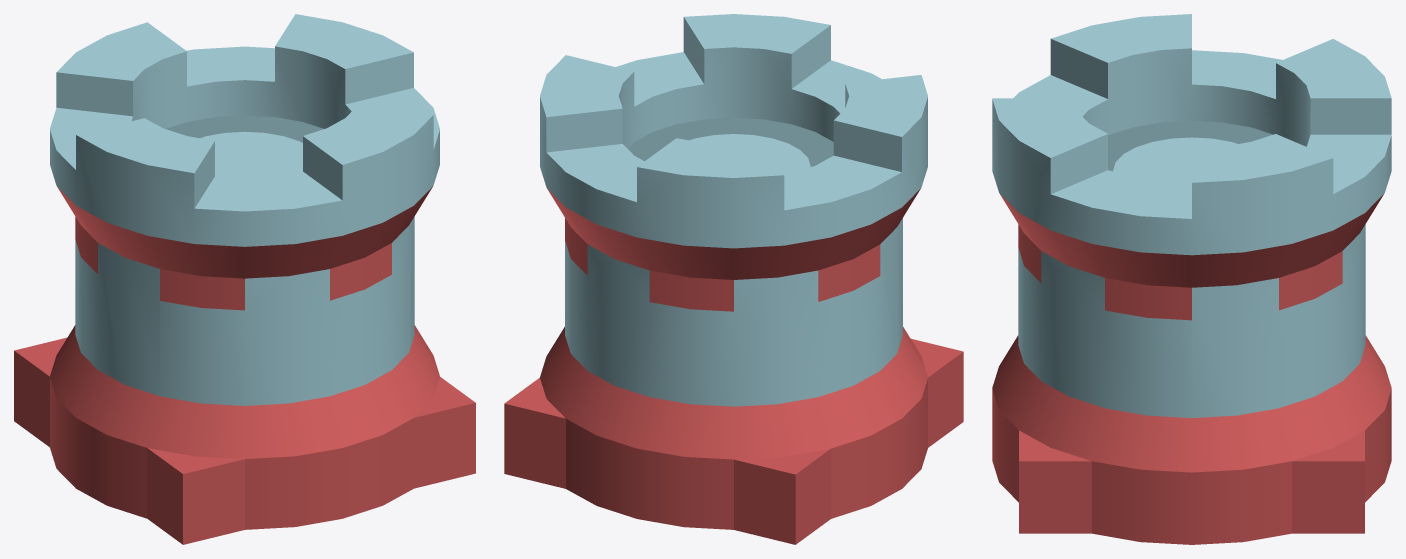
Rendered from towerRound_sampleE.fbx.
The picture shows the model from 3 angles, left to right: view 1: azimuth 30°, elevation 25°; view 2: azimuth 150°, elevation 25°; view 3: azimuth 270°, elevation 25°; orthographic projection. The views are drawn at different scales.
Parts seen in each view (by area): view 1: towerRound_sampleE; view 2: towerRound_sampleE; view 3: towerRound_sampleE.
Part boxes in pixels (bbox=[...]): towerRound_sampleE: bbox=[14, 14, 475, 544]; towerRound_sampleE: bbox=[504, 14, 963, 544]; towerRound_sampleE: bbox=[992, 14, 1391, 544].
Bounding box in the file's own units: 10 × 10 × 10.
